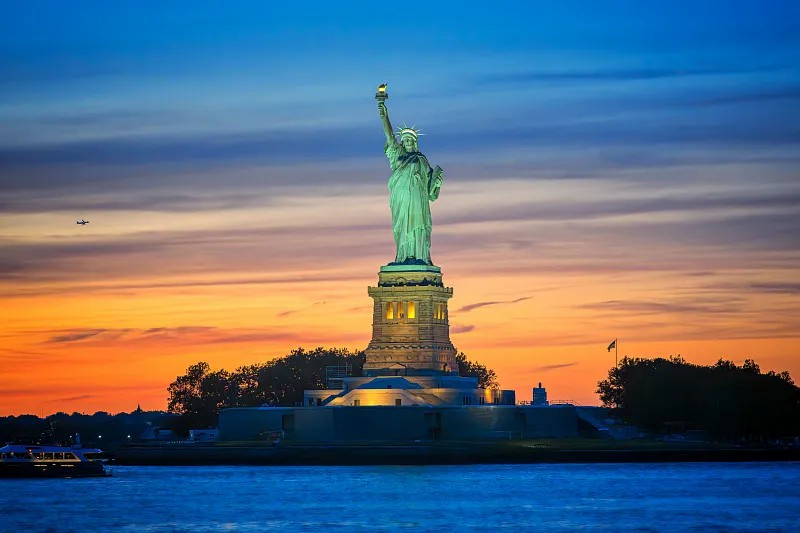SL: (362, 81, 458, 372)
